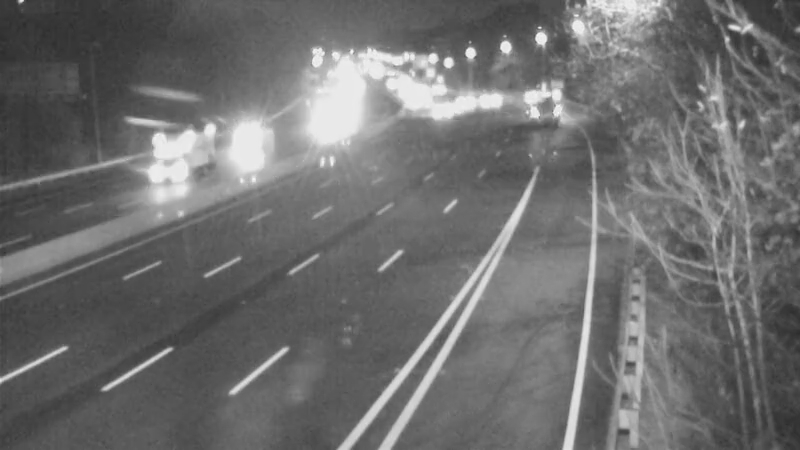vehicle: (146, 130, 226, 210), (457, 66, 507, 116), (442, 73, 492, 123), (415, 86, 465, 136), (517, 70, 567, 120), (214, 118, 264, 168)
